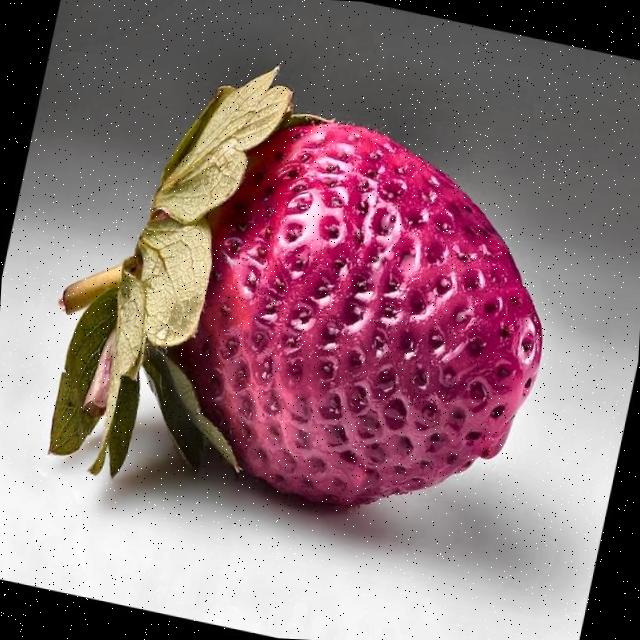strawberry: (49, 69, 541, 505)
